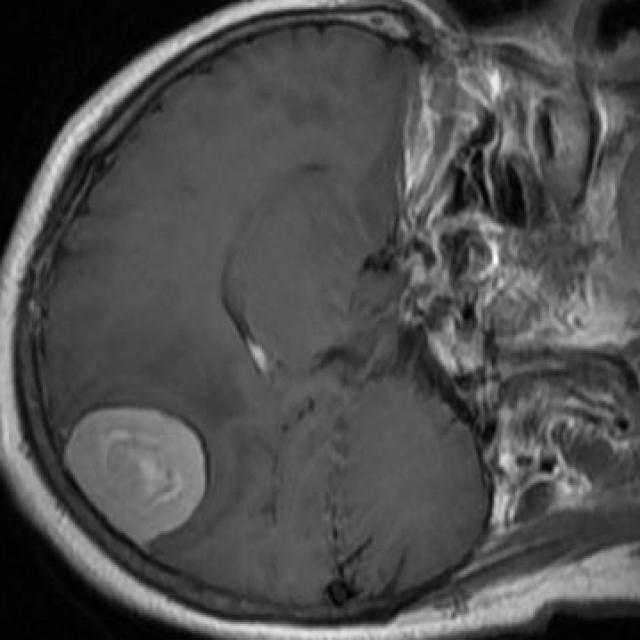meningioma: (64, 408, 207, 544)
